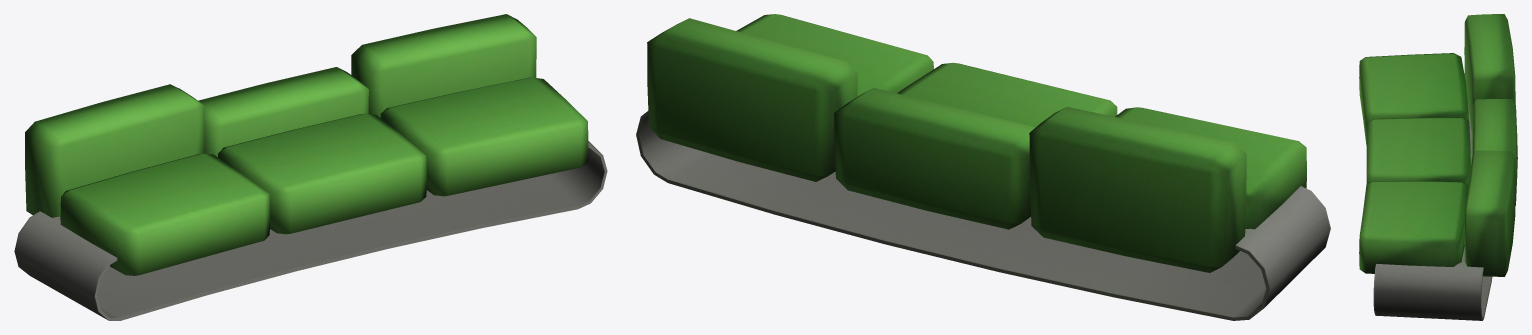
File: NetW_Chair3P02_green.FBX
3 views of the same model, side by side, from view 1: azimuth 30°, elevation 25°; view 2: azimuth 150°, elevation 25°; view 3: azimuth 270°, elevation 25° (orthographic). The views are drawn at different scales.
Visible parts, largest first — view 1: NetW_Chair3P01; view 2: NetW_Chair3P01; view 3: NetW_Chair3P01.
Boxes of the visible parts, x1,y1,x2,y2 form: NetW_Chair3P01: [14, 14, 607, 320]; NetW_Chair3P01: [636, 14, 1330, 320]; NetW_Chair3P01: [1359, 14, 1517, 320].
Size of the model in its own units: 2.96 by 0.7548 by 0.928.
